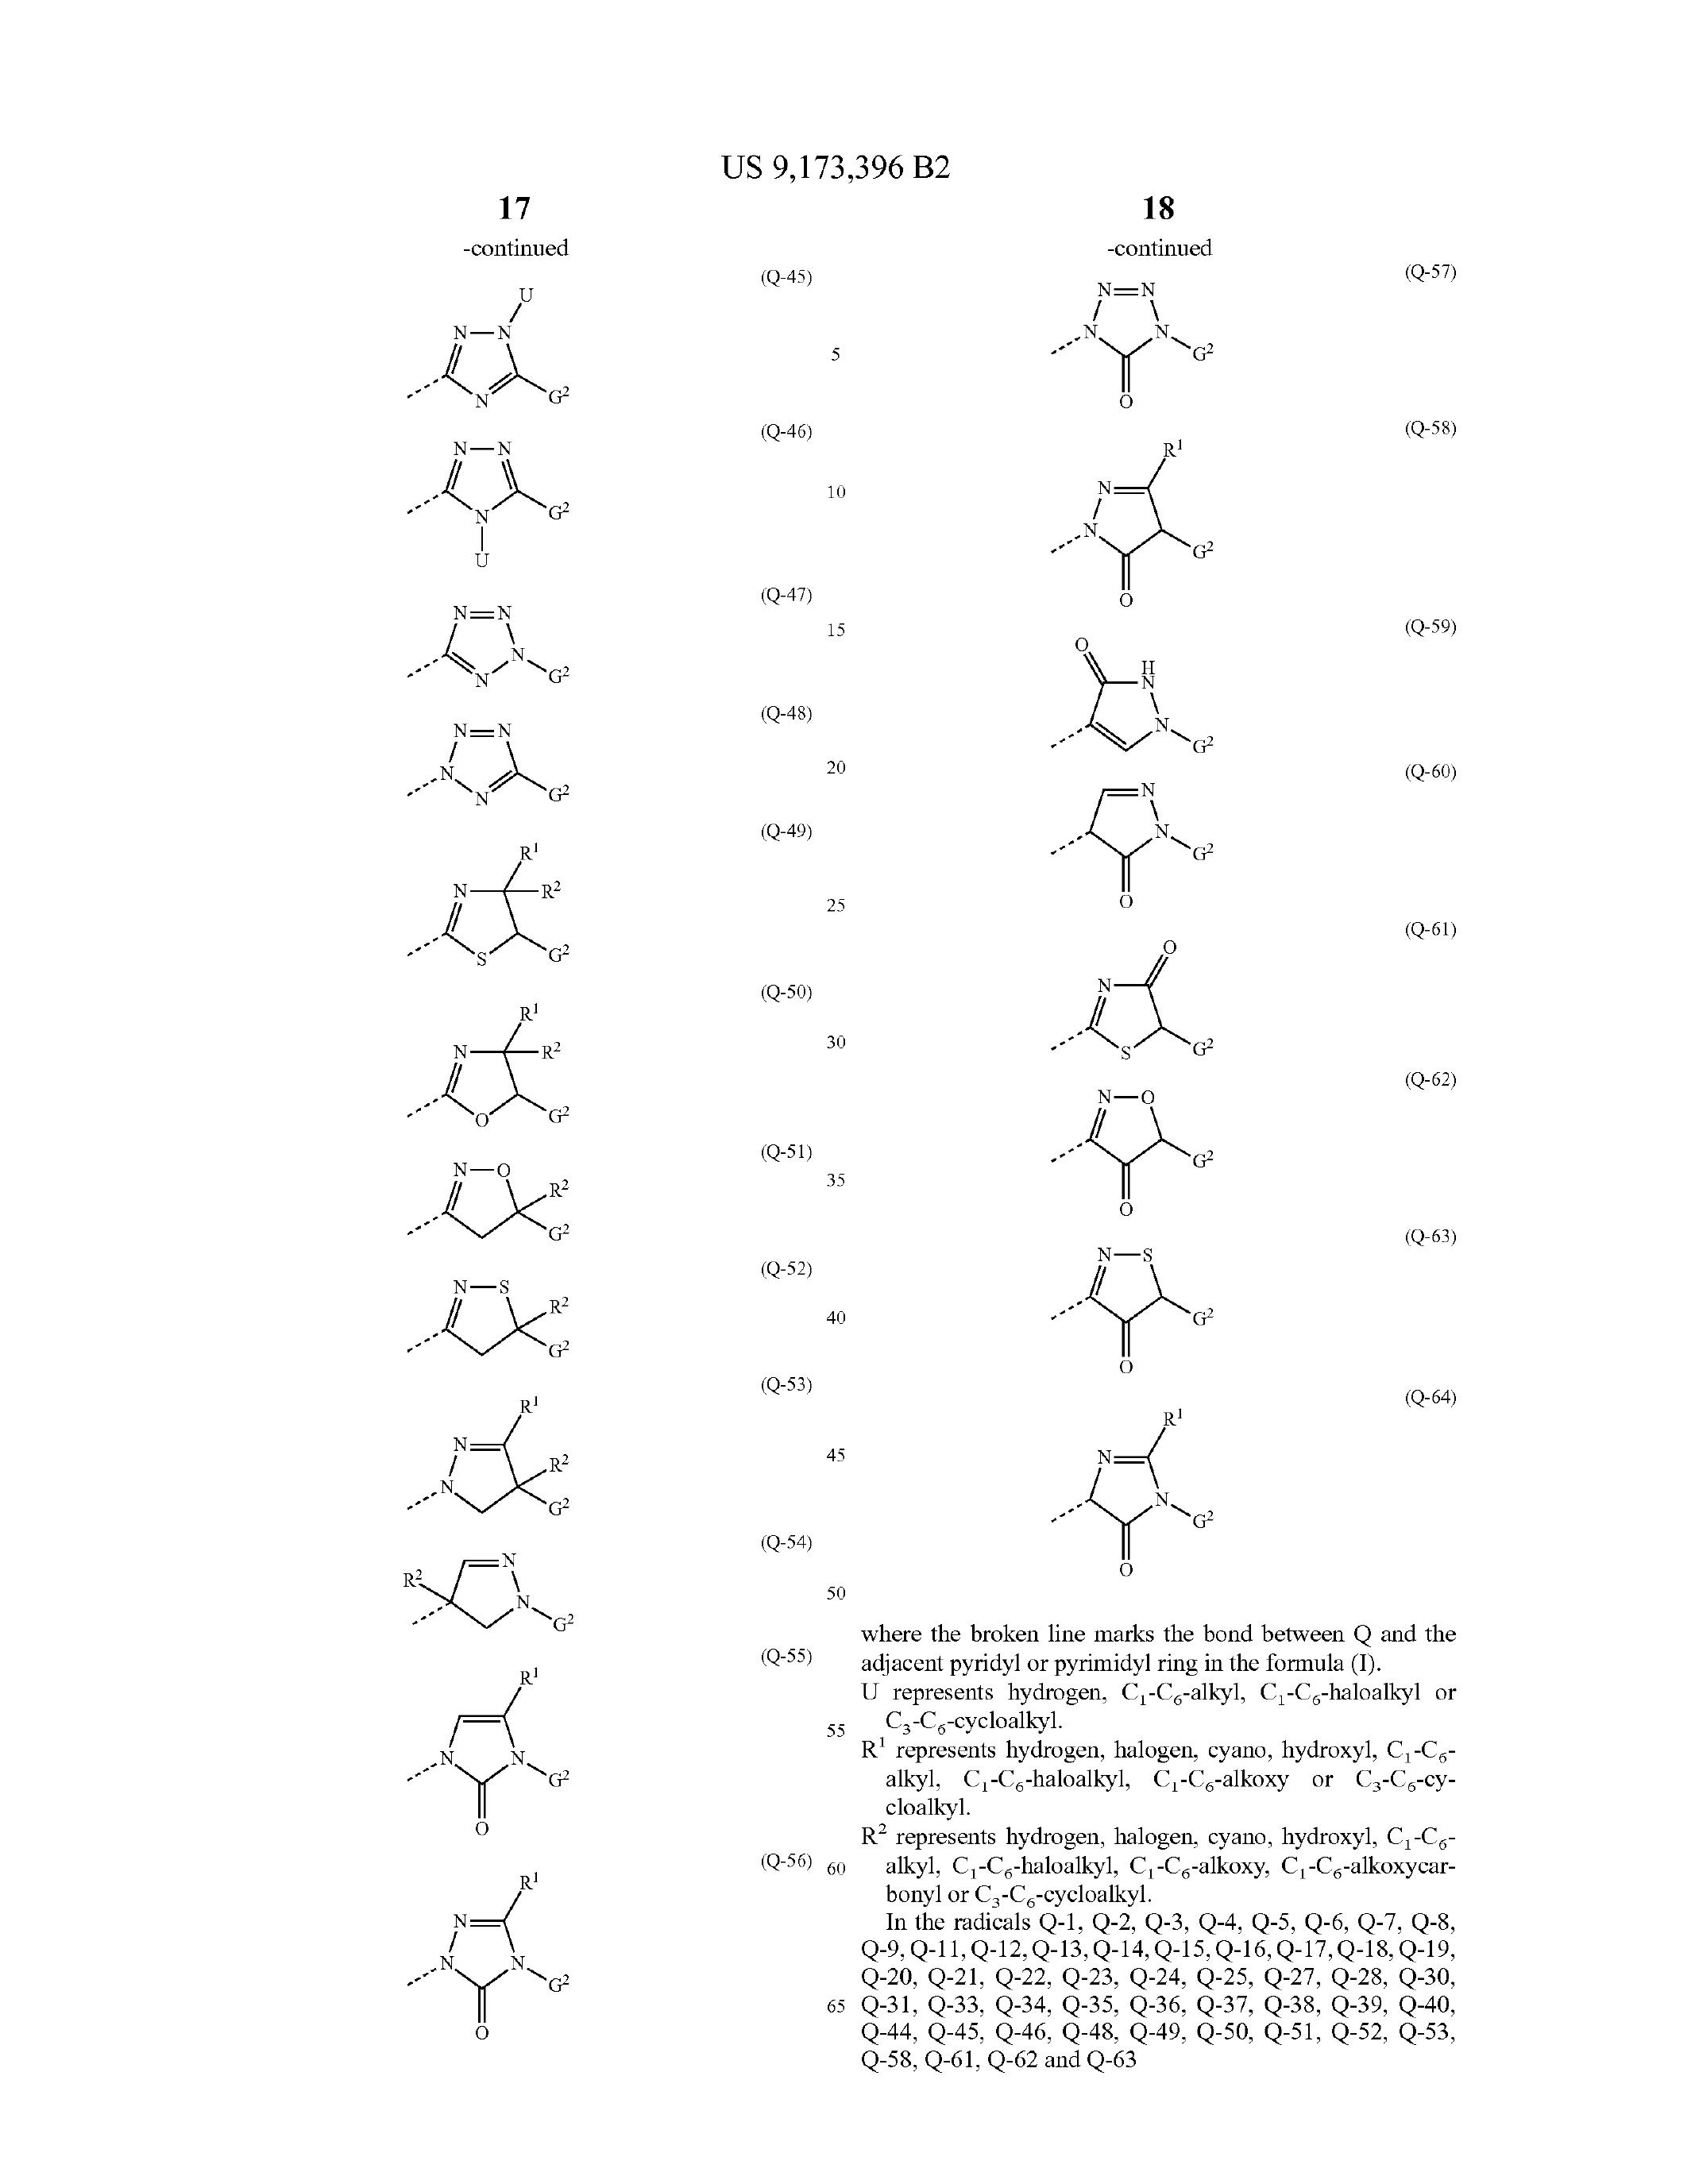intermediates: (940, 1191, 1269, 1576)
